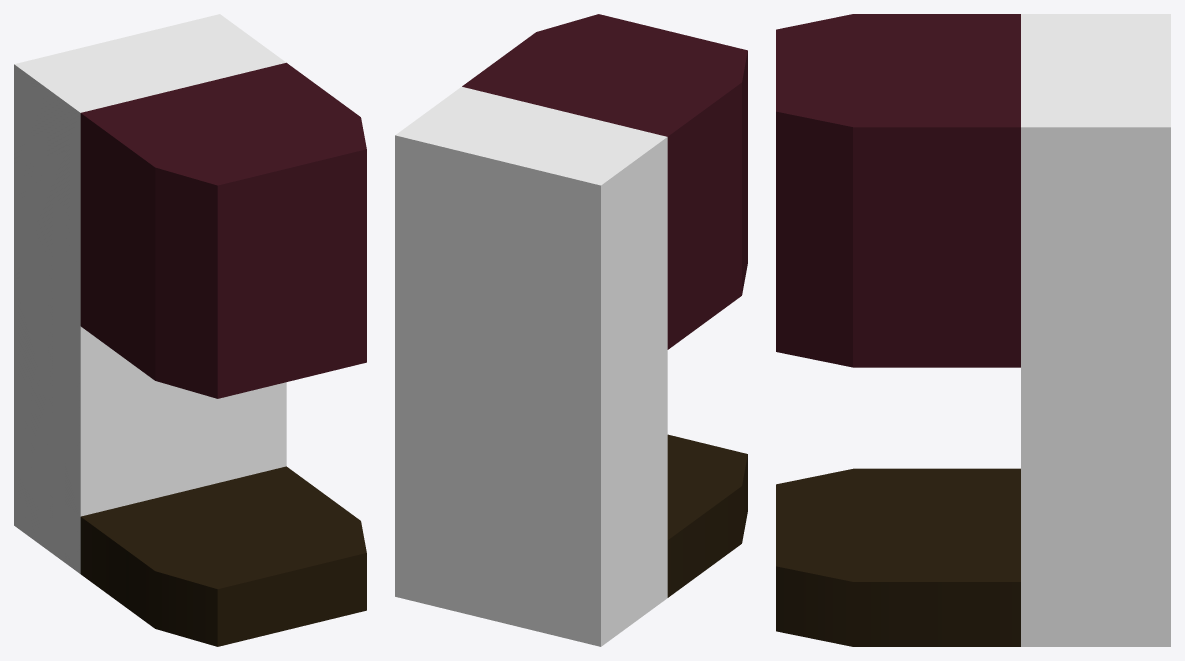
The model's file is Itr_Obj_Coffeepot_Body_04.FBX.
3 renders of one model, left to right at view 1: azimuth 30°, elevation 25°; view 2: azimuth 150°, elevation 25°; view 3: azimuth 270°, elevation 25°, orthographic. The views are drawn at different scales.
Visible parts, largest first — view 1: Itr_Obj_Coffeepot_Body_04; view 2: Itr_Obj_Coffeepot_Body_04; view 3: Itr_Obj_Coffeepot_Body_04.
Boxes of the visible parts, <box> form: Itr_Obj_Coffeepot_Body_04: <box>14,14,366,646</box>; Itr_Obj_Coffeepot_Body_04: <box>395,14,747,646</box>; Itr_Obj_Coffeepot_Body_04: <box>776,14,1170,646</box>.
Size of the model in its own units: 7.13 by 15.27 by 10.52.
